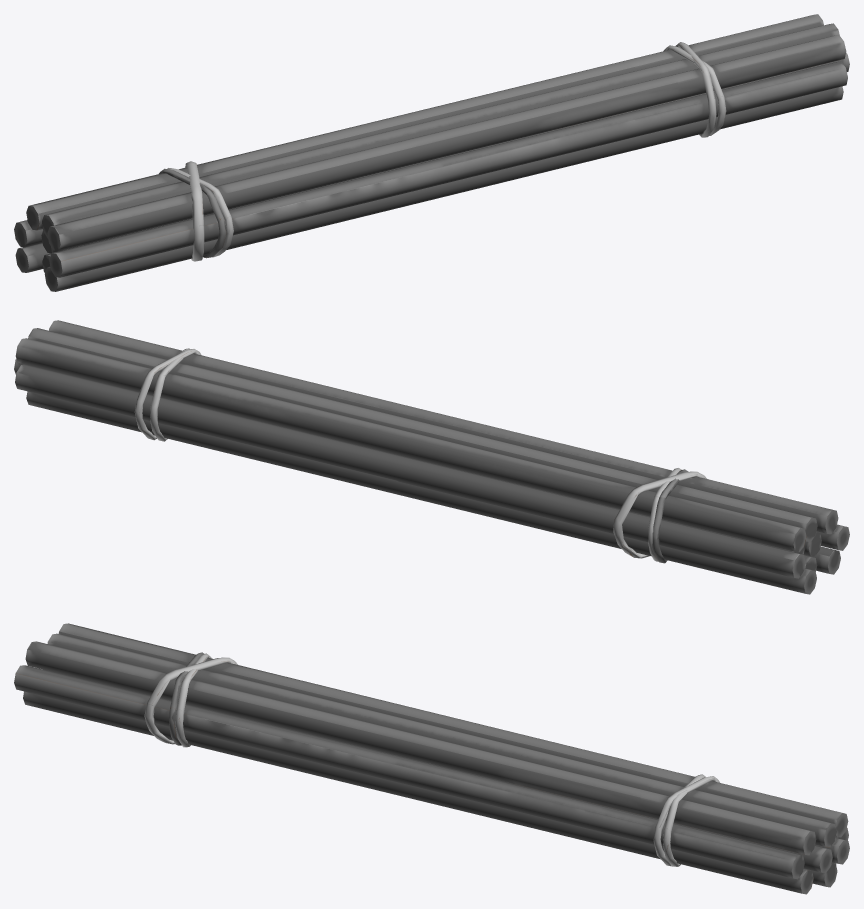
Rendered from IronPipes.glb.
3 views of the same model, one above another, from view 1: azimuth 30°, elevation 25°; view 2: azimuth 150°, elevation 25°; view 3: azimuth 330°, elevation 25° (orthographic).
Visible parts, largest first — view 1: Cylinder.005; view 2: Cylinder.005; view 3: Cylinder.005.
Part boxes in pixels (left/top/right/bottom): Cylinder.005: left=14, top=14, right=849, bottom=291; Cylinder.005: left=14, top=320, right=849, bottom=594; Cylinder.005: left=14, top=623, right=849, bottom=894.
Size of the model in its own units: 27.33 by 2.35 by 3.42.
1 material, 1 textured.
